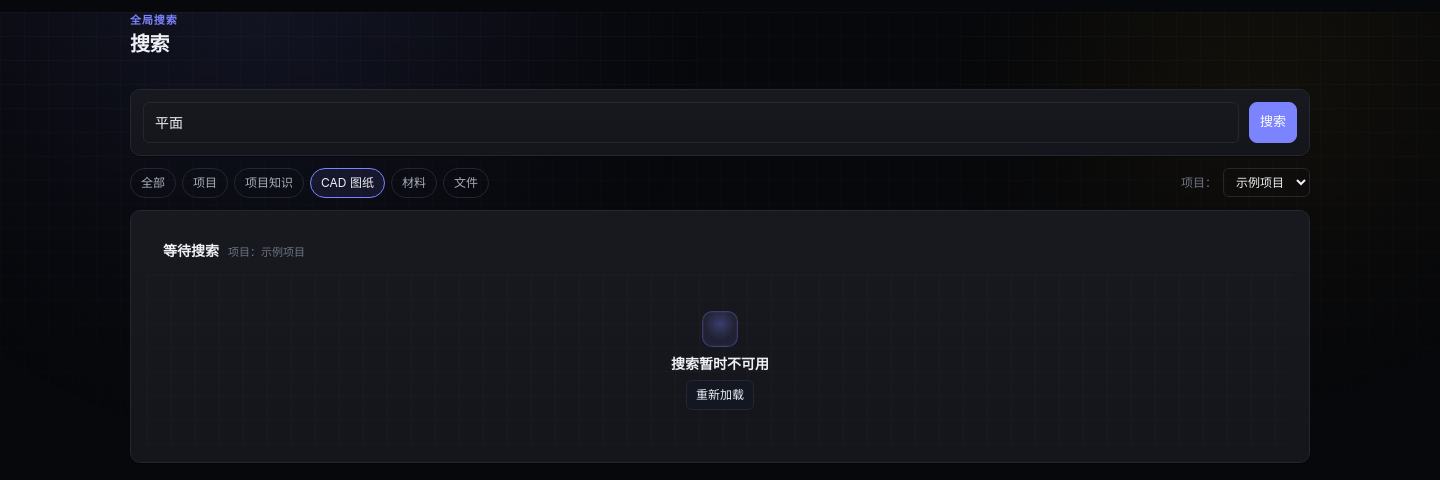
Test case: Phase 9.3 完整搜索页 › 错误状态与零结果分离，且可重新加载
This screenshot has width=1440, height=480.
Expected: the text "搜索暂时不可用" is shown, [671, 352, 769, 374]
Expected: the text "未找到“平面”相关结果" is not shown
Click the button "重新加载": (720, 394) [686, 380, 754, 410]
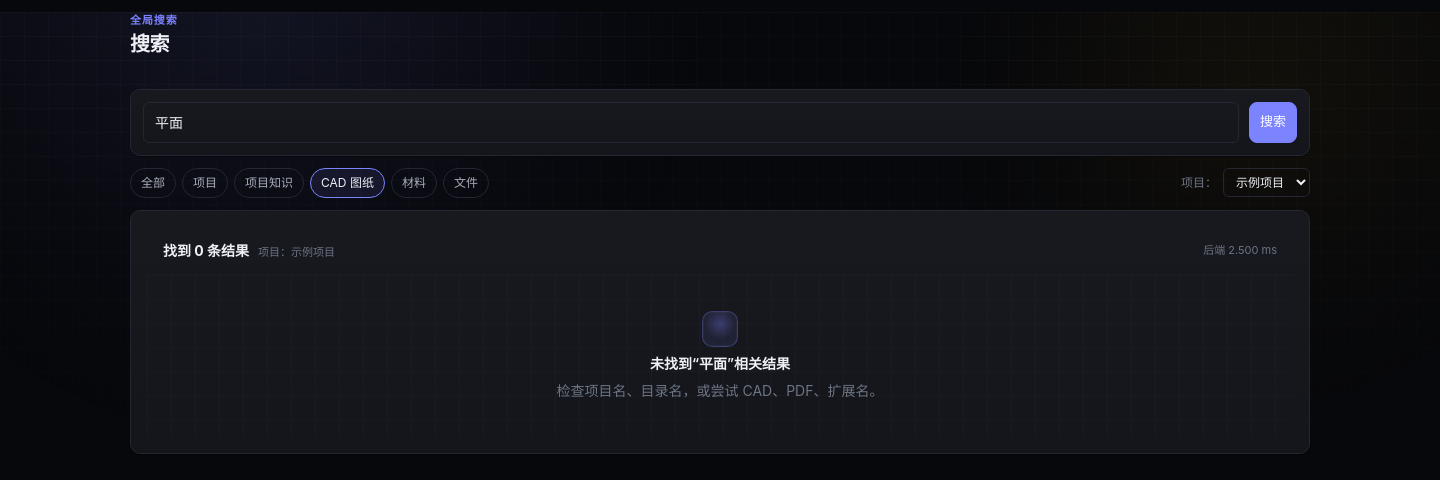
Expected: the text "未找到“平面”相关结果" is shown, [650, 352, 790, 374]
